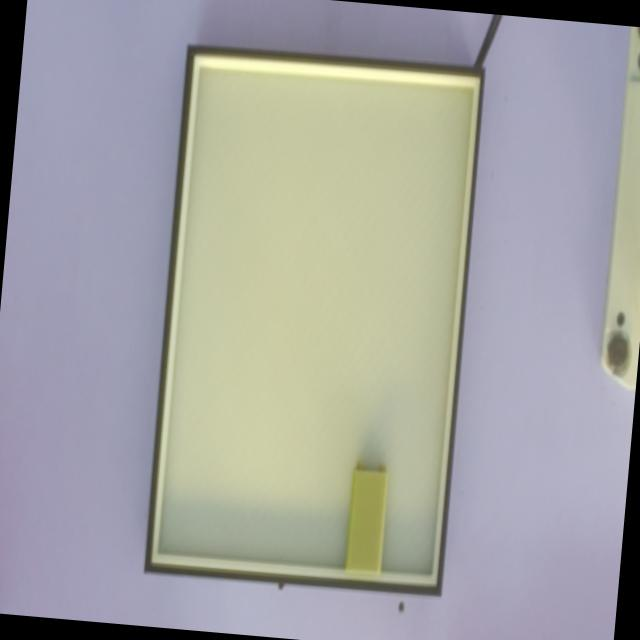bateria: (344, 461, 389, 569)
mesa: (144, 43, 485, 598)
